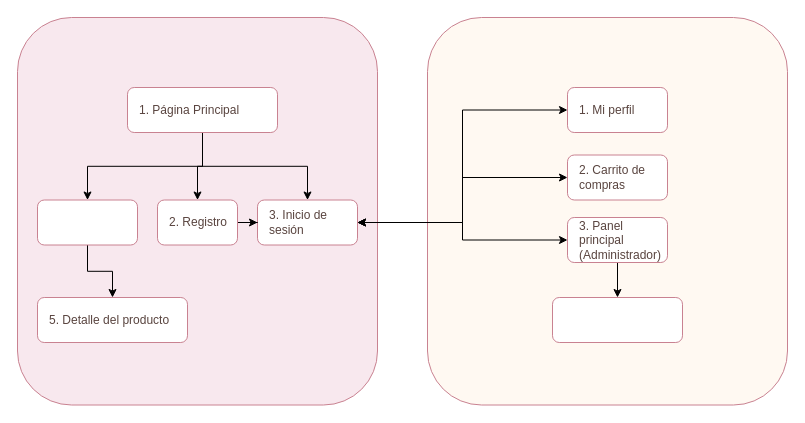
Image size: 805x423. Some labels were removed from this diagram. The box of each missing label's shape, as (x1, y1, x2, y2) in pixels:
4. Galería de productos: (36, 199, 138, 245)
4. Gestionar catálogo (Administrador): (552, 296, 682, 342)
Vistas Privadas: (426, 16, 788, 405)
Vistas Públicas: (16, 16, 378, 405)
